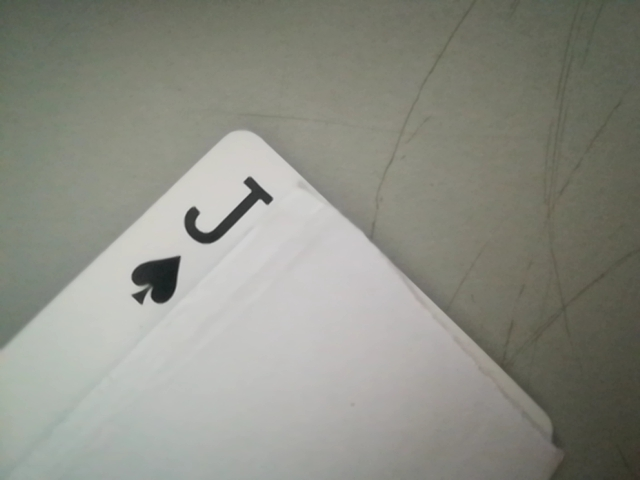ht j: (116, 165, 299, 308)
